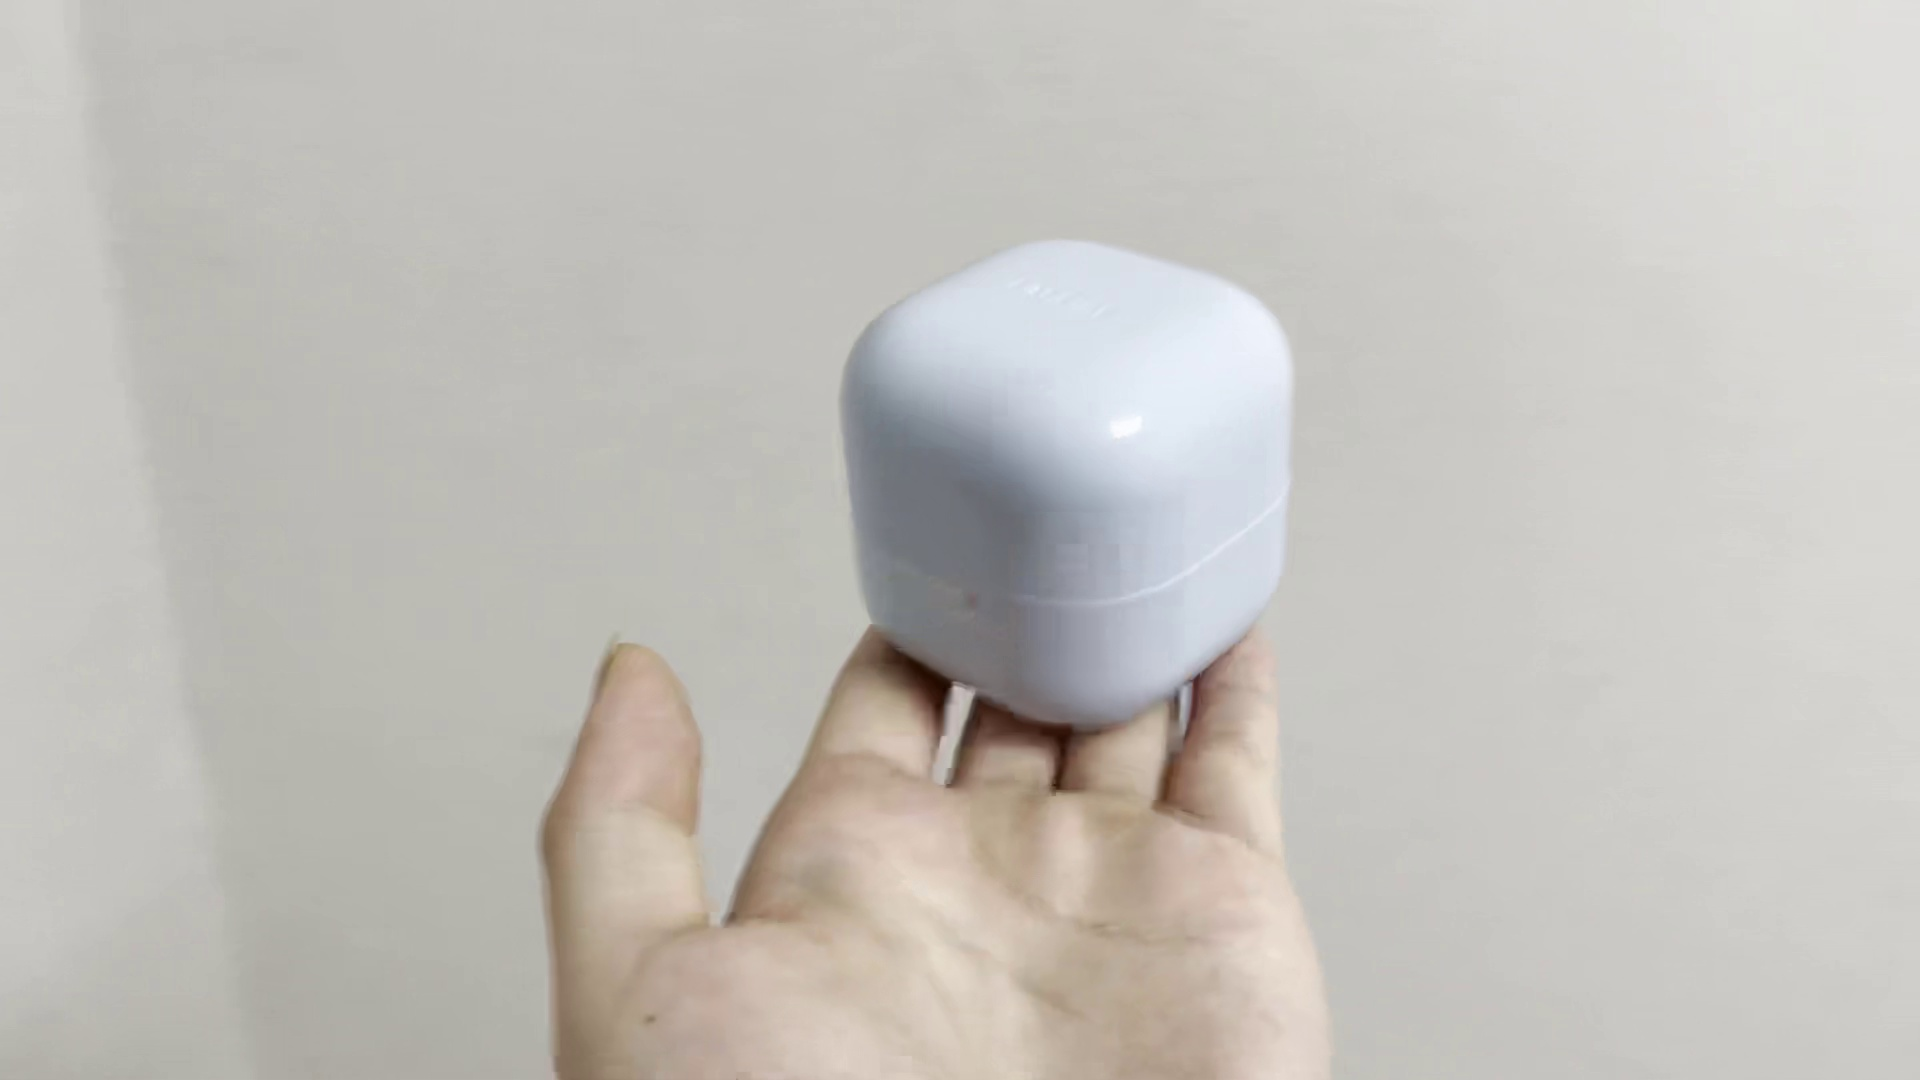cream: (844, 237, 1288, 720)
